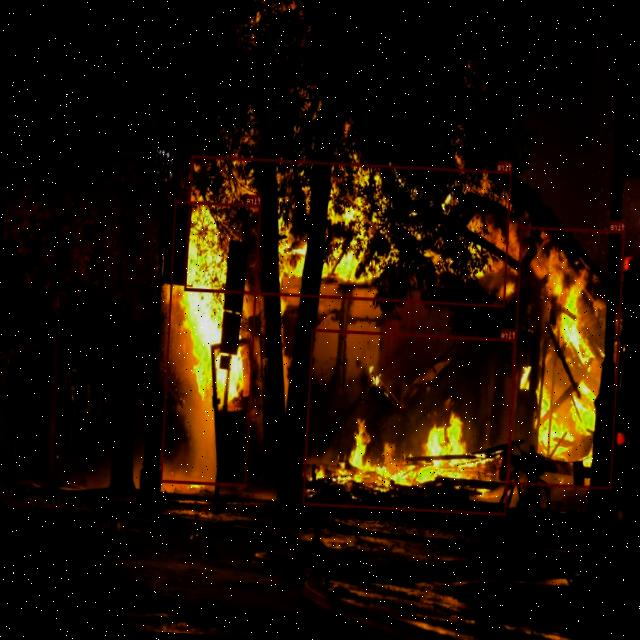fire: (185, 154, 512, 308), (303, 328, 516, 514), (508, 226, 626, 490), (160, 200, 262, 487)
